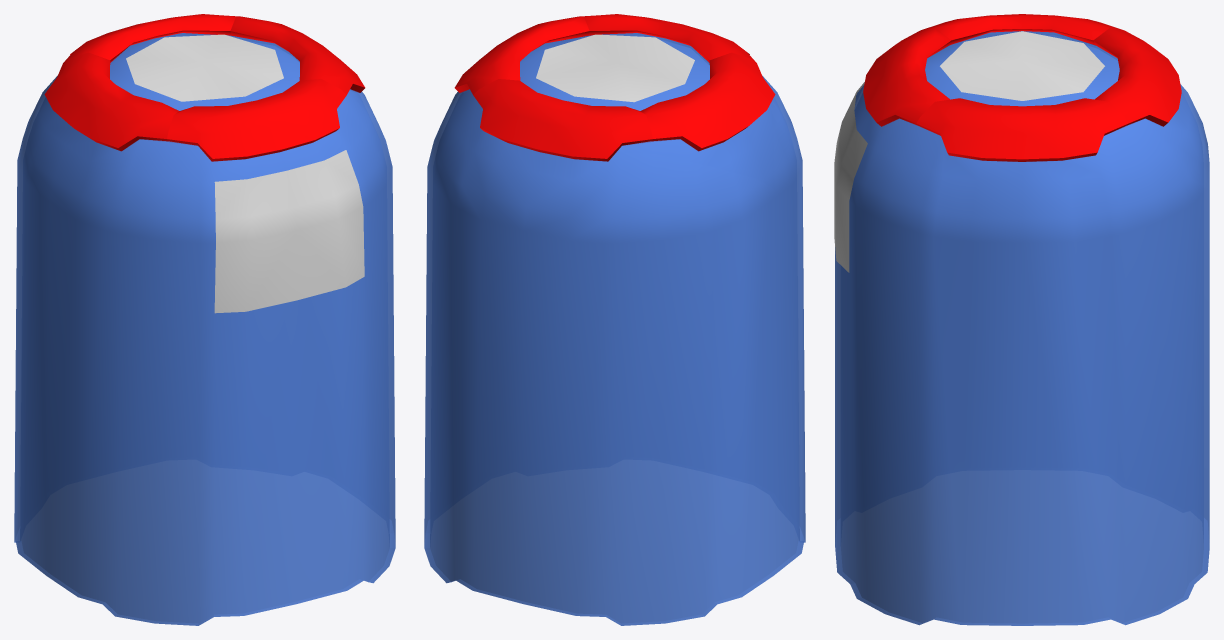
File: obj_characterobject_tapebotpackage_top.fbx
The picture shows the model from 3 angles, left to right: view 1: azimuth 30°, elevation 25°; view 2: azimuth 150°, elevation 25°; view 3: azimuth 270°, elevation 25°; orthographic projection. The views are drawn at different scales.
Parts seen in each view (by area): view 1: obj_characterobject_tapebot_top; view 2: obj_characterobject_tapebot_top; view 3: obj_characterobject_tapebot_top.
Boxes of the visible parts, <box> form: obj_characterobject_tapebot_top: <box>14,14,395,625</box>; obj_characterobject_tapebot_top: <box>424,14,805,625</box>; obj_characterobject_tapebot_top: <box>834,14,1209,625</box>.
Size of the model in its own units: 5.73 by 8.35 by 5.75.
